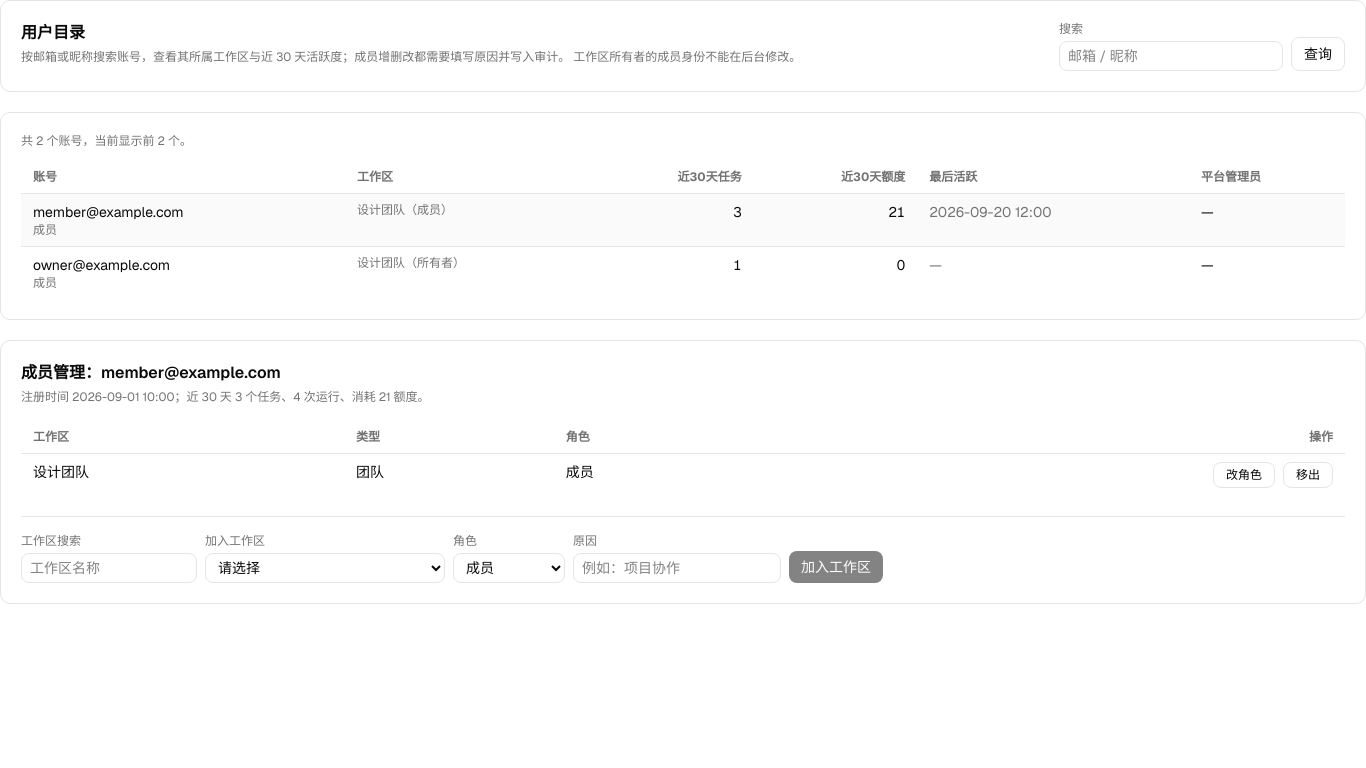
Test: admin users section › requires an inline reason before changing a role
Click the button "改角色" at (1244, 475), box [1213,462,1275,488]
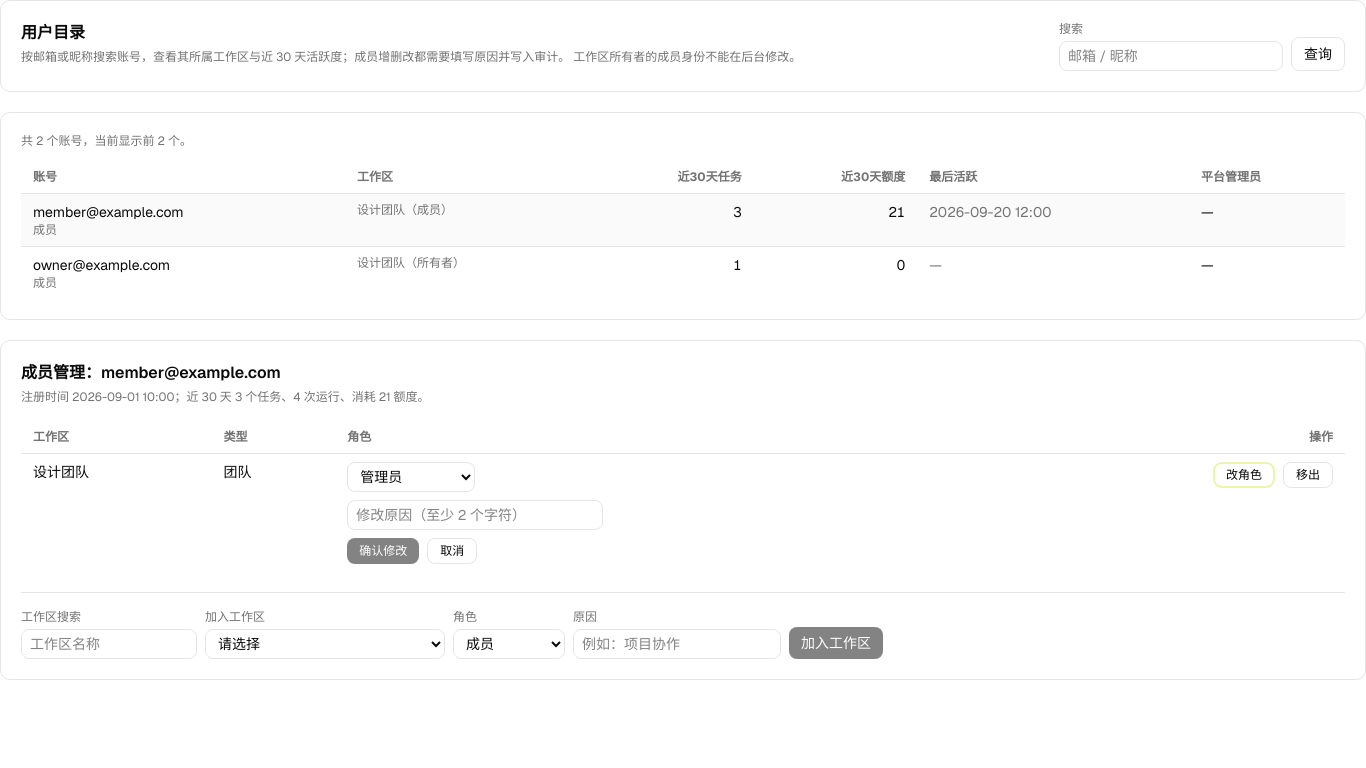
Now the button "确认修改" is disabled, box [347,538,419,564]
Select "管理员" in the dropdown named "设计团队 的新角色" at (411, 477), box [347,462,475,492]
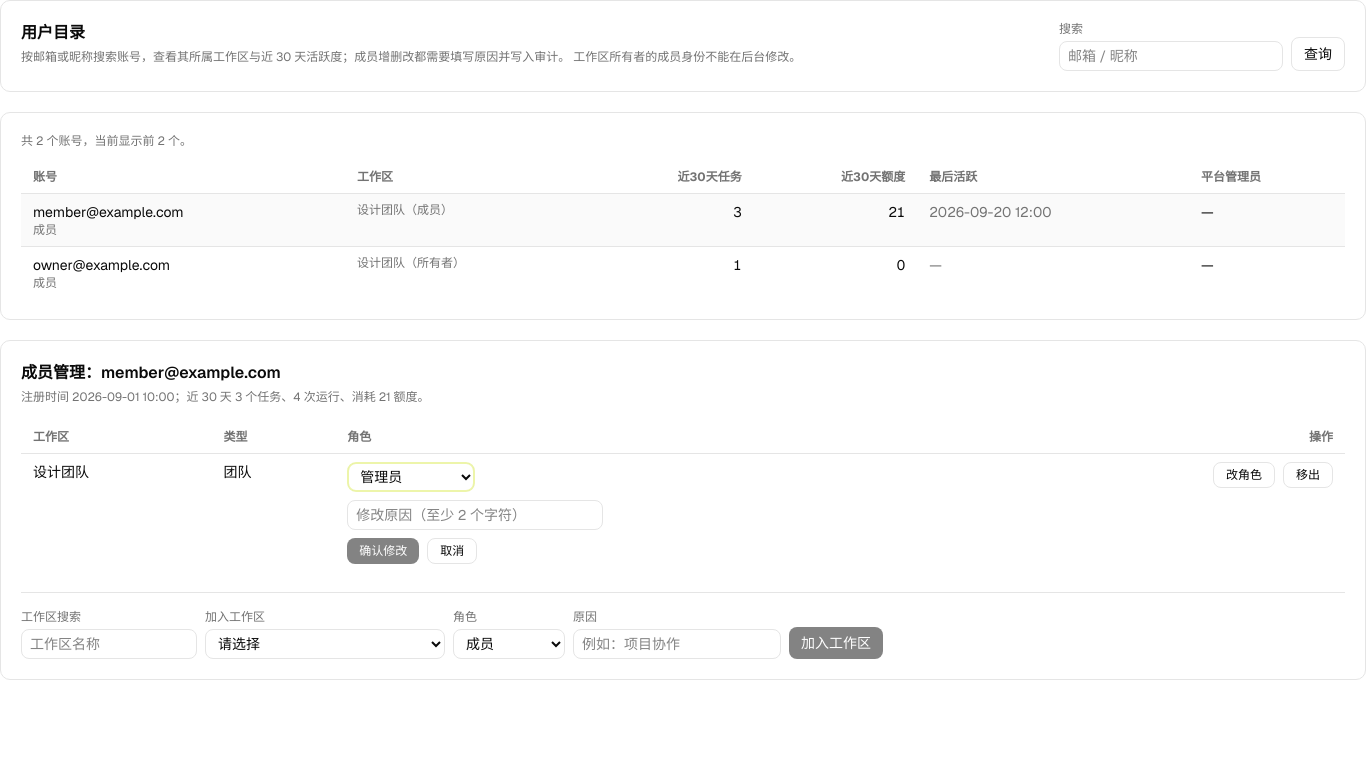
Type "升为管理员" into the field named "设计团队 的角色修改原因" at (475, 515), box [347,500,603,530]
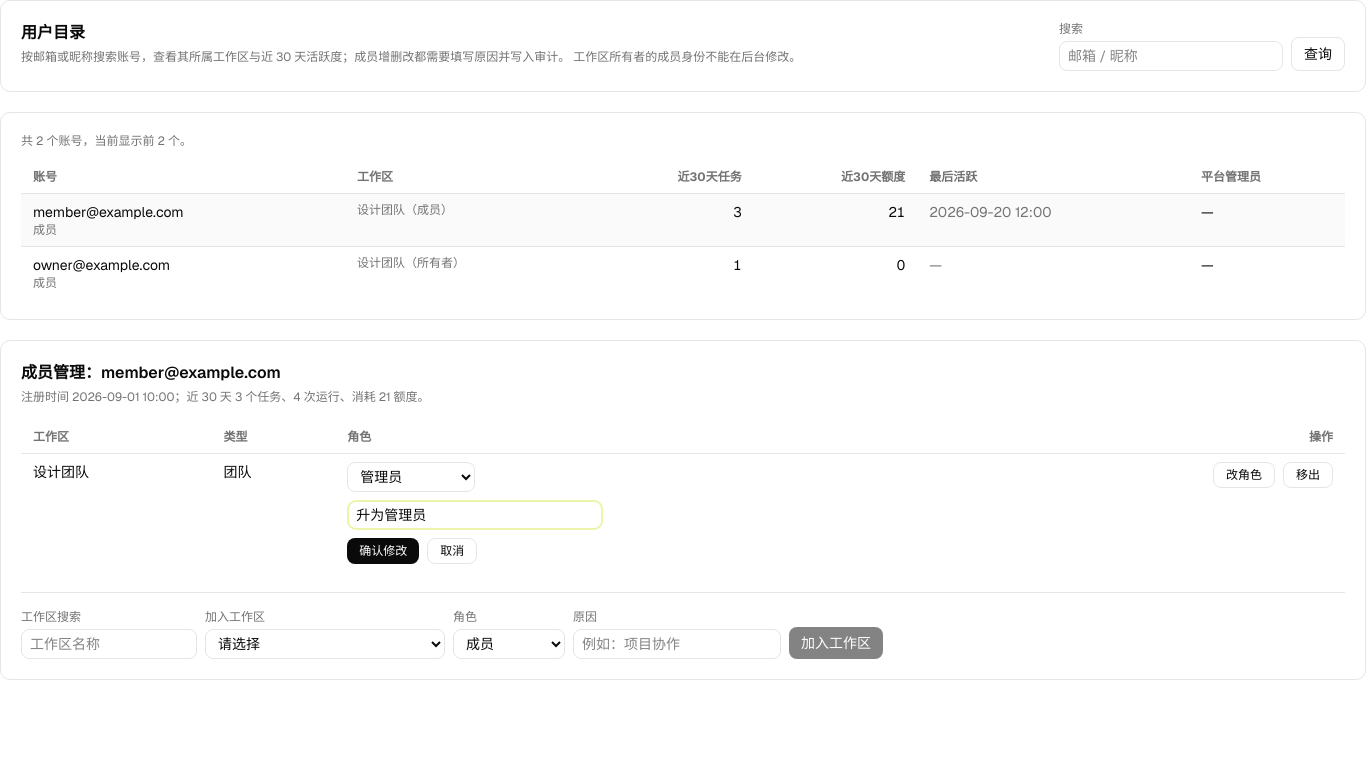
Now the button "确认修改" is enabled
Click the button "确认修改" at (383, 551), box [347,538,419,564]
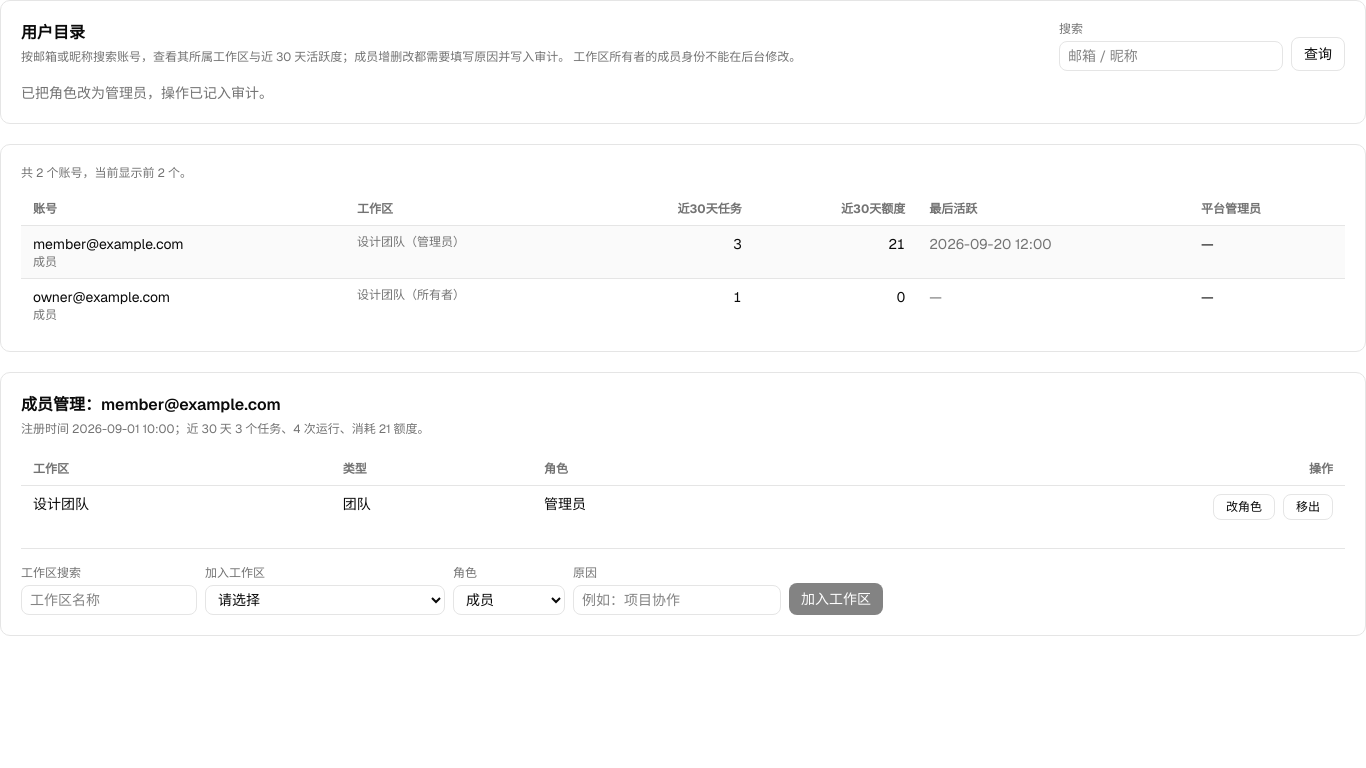
Now the text with test id "admin-users-feedback" shows "已把角色改为管理员", box [21,84,273,102]
Now the text "管理员" is shown, box [532,486,788,528]
